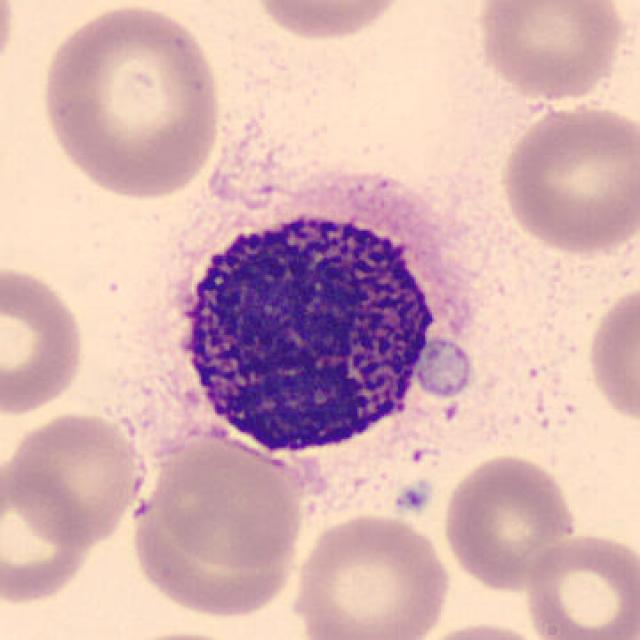Basophil: (155, 182, 455, 470)
Platelets: (391, 479, 436, 516)
RBC: (36, 0, 228, 203), (142, 430, 308, 573), (496, 100, 636, 258), (288, 509, 455, 640), (2, 407, 153, 545), (439, 450, 581, 592), (473, 0, 631, 102), (0, 455, 98, 606), (0, 261, 89, 418), (519, 530, 638, 640), (583, 281, 638, 428), (247, 0, 413, 44), (412, 333, 477, 402), (407, 619, 549, 640), (0, 0, 21, 97), (108, 627, 250, 640)
